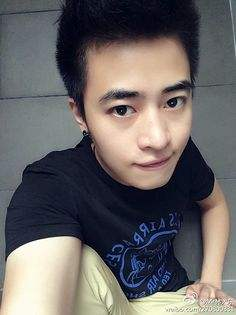person: (22, 7, 186, 261)
